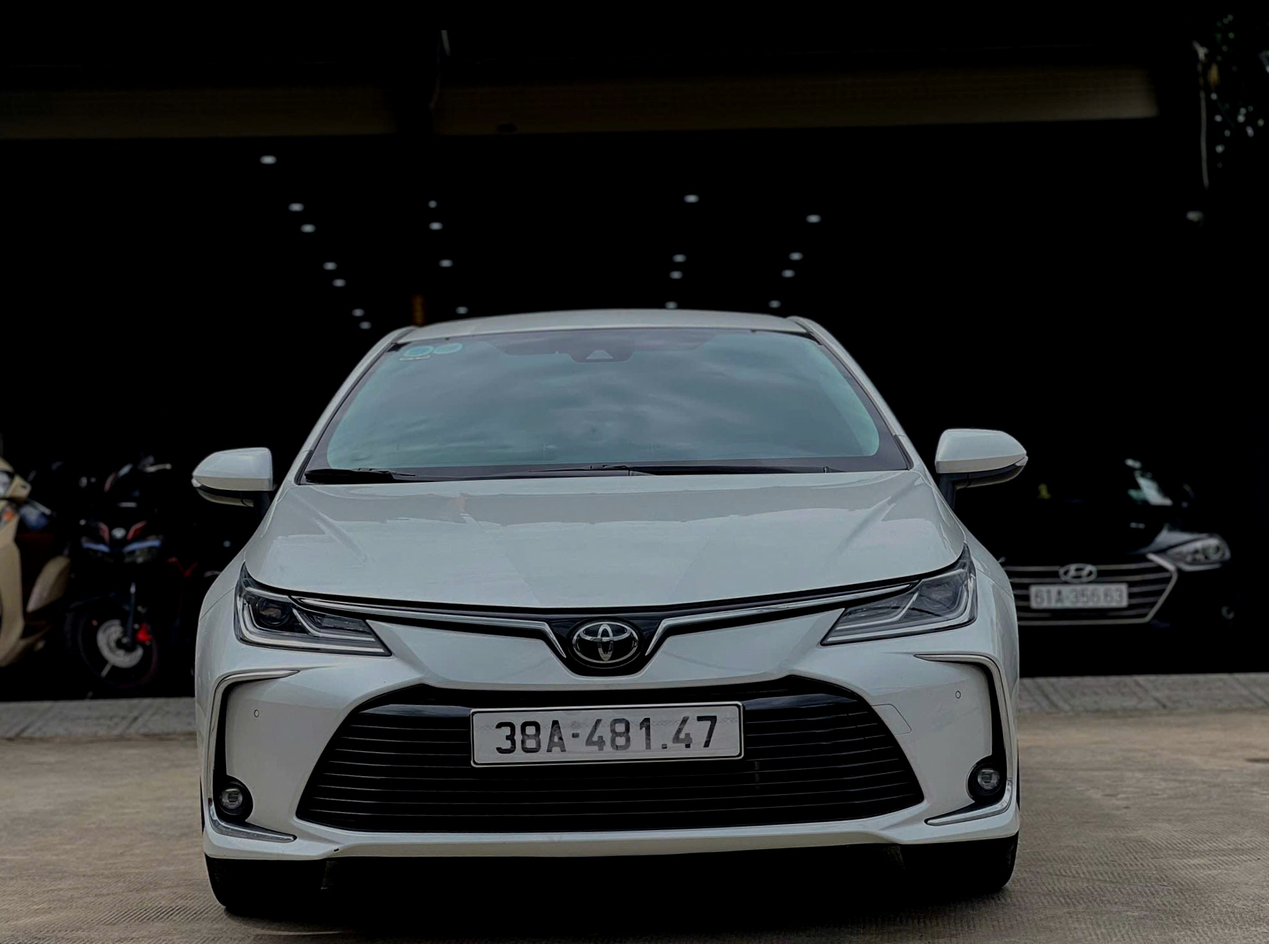Bien-so: (462, 697, 753, 773), (1028, 579, 1132, 611)
